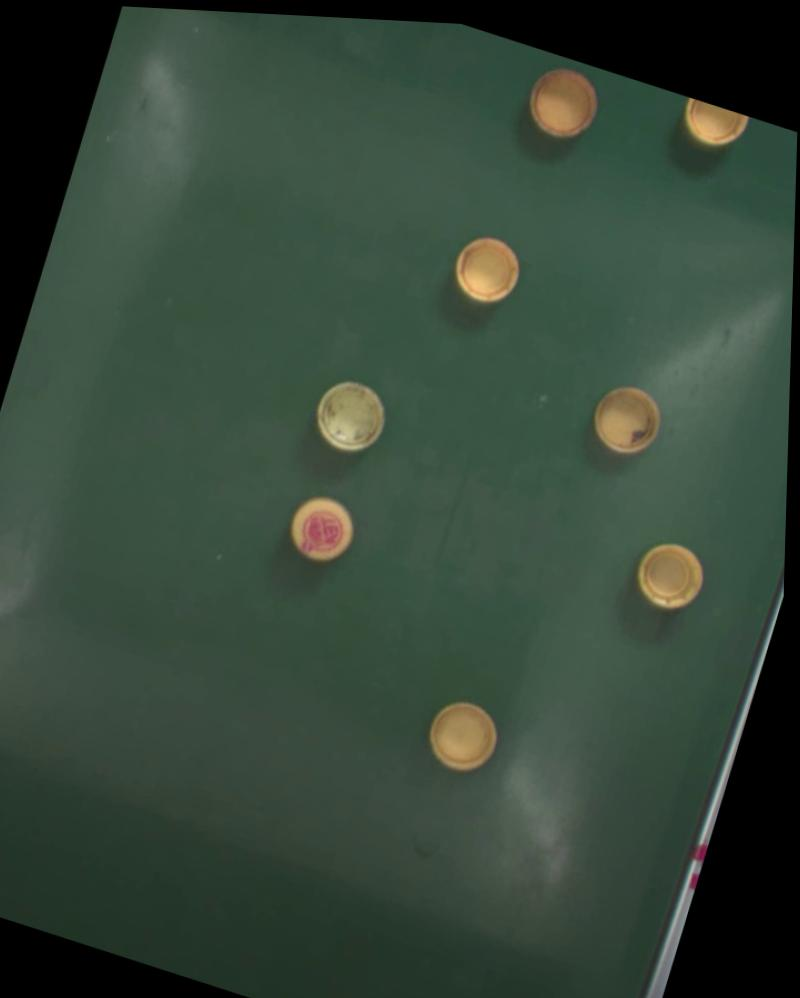others: (419, 691, 505, 780), (444, 224, 528, 312), (585, 377, 668, 465), (626, 533, 711, 618), (308, 371, 391, 458), (520, 60, 603, 147), (280, 487, 362, 570), (675, 95, 750, 154)
